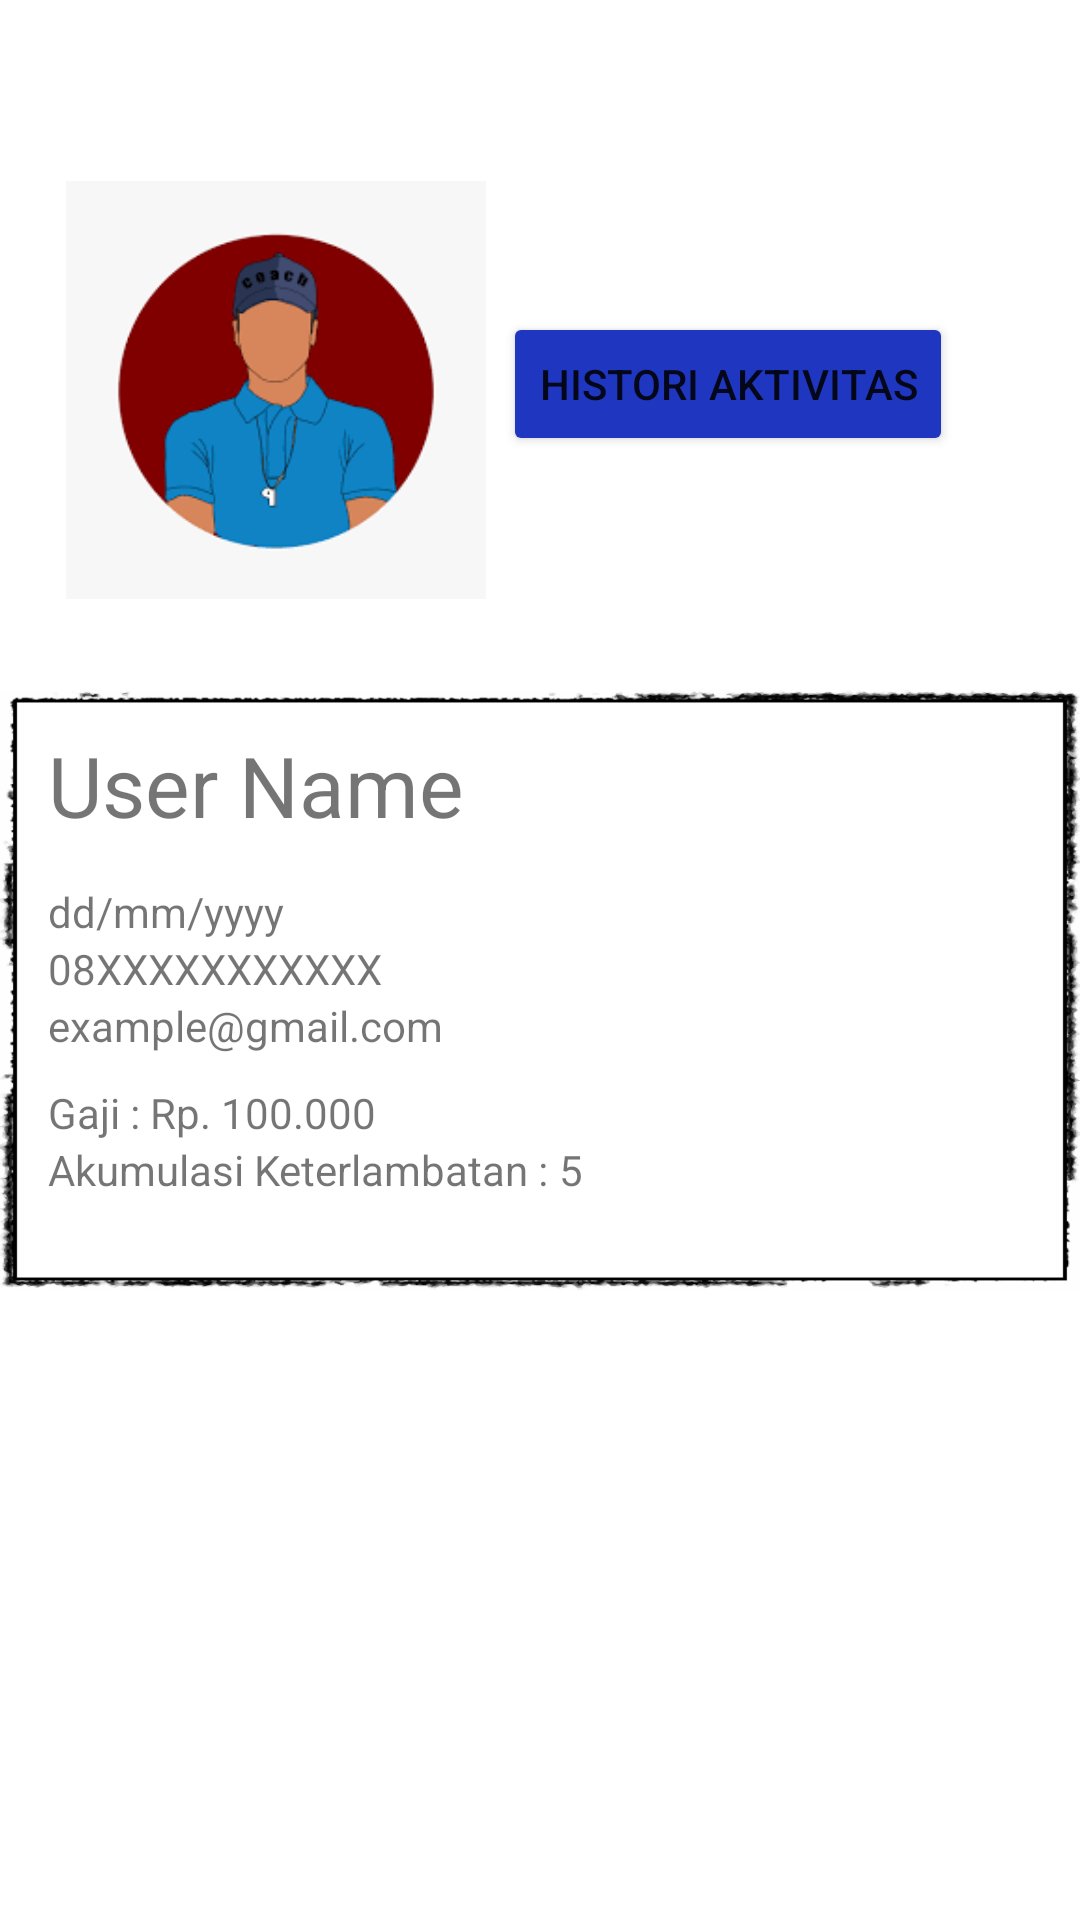

Screen size 1080x1920. Icon name, then its center in pixels as [x,y]:
coach: [276,391]
